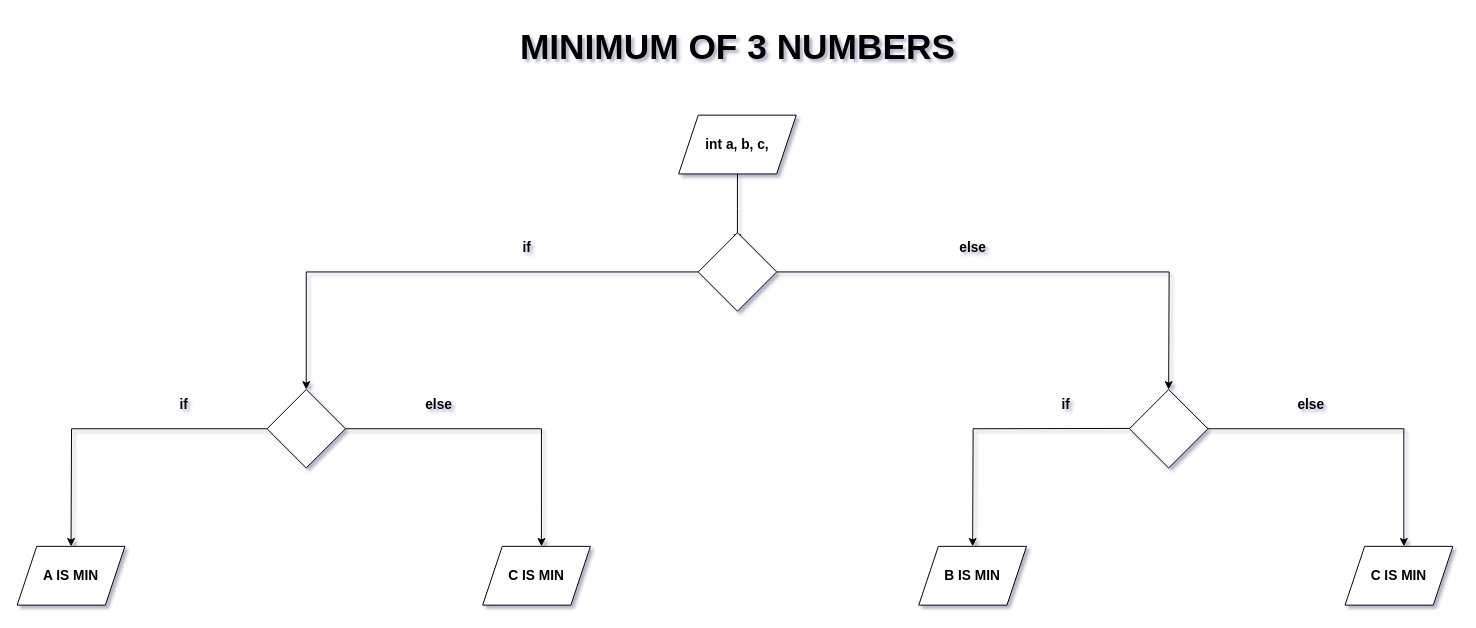
Some shapes in this 1476 by 628 pixel diagram are drawn without their labels. The shapes that lost their labels are listed below. From the top down, each one's centre as x and y in pixels, then its label:
At point (737, 271): "a<b".
At point (305, 428): "a<c".
At point (1168, 428): "b<c".
